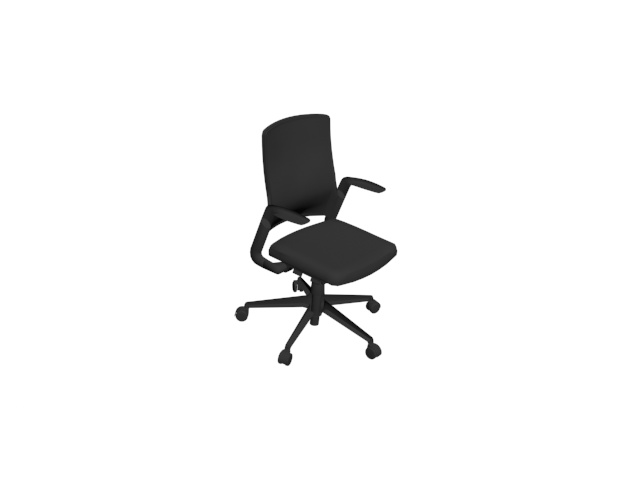desk_chair: (233, 113, 400, 368)
